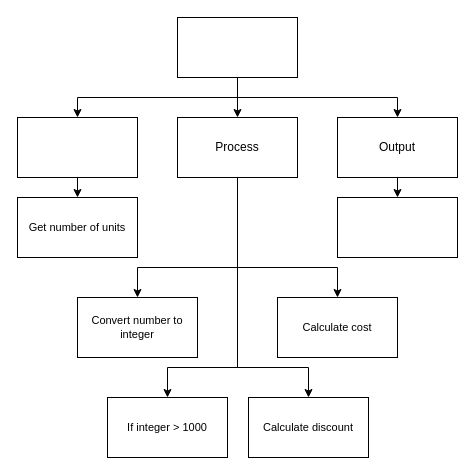
The diagram is 475 pixels wide and 475 high, and some of its shapes have lost their labels. The shapes that lost their labels are listed below. From the top down, each one's centre as x and y in pixels, then its label:
At (237,47): "discount".
At (77,147): "Input".
At (397,227): "Show cost".
